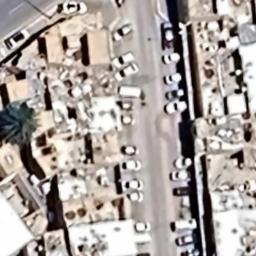pickup: (160, 20, 178, 50)
sedan: (114, 62, 140, 84), (116, 156, 145, 174), (119, 178, 145, 194), (164, 100, 187, 116), (130, 220, 156, 234), (123, 192, 147, 206), (164, 71, 184, 87)
truck: (114, 84, 144, 100)
unknown: (4, 26, 34, 51), (52, 2, 90, 18), (174, 233, 200, 249), (168, 169, 194, 184), (164, 88, 186, 100), (172, 186, 193, 198)
van: (106, 20, 138, 44), (110, 49, 136, 68), (164, 50, 182, 68)
